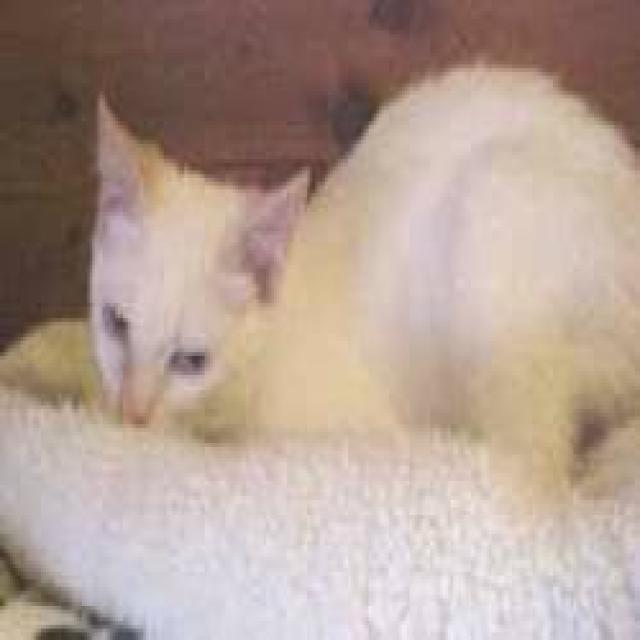cat: (87, 87, 312, 428)
